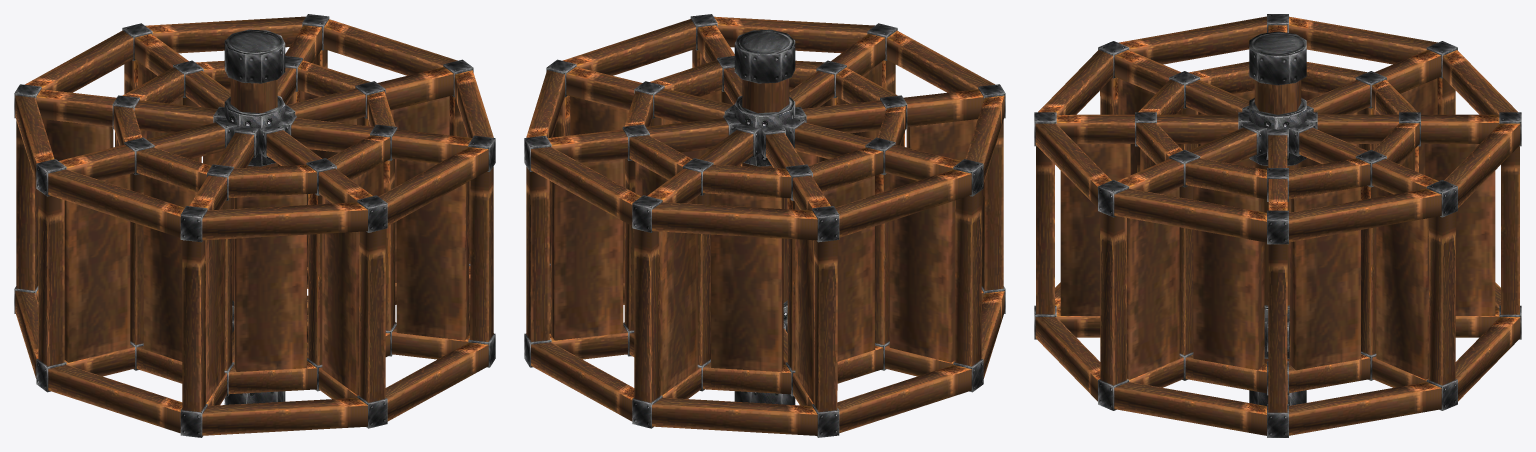
File: INST_SWORDLIGHT_WATERWHEEL.obj
3 renders of one model, left to right at view 1: azimuth 30°, elevation 25°; view 2: azimuth 150°, elevation 25°; view 3: azimuth 270°, elevation 25°, orthographic.
Parts seen in each view (by area): view 1: erwheel_Lod1_01; view 2: erwheel_Lod1_01; view 3: erwheel_Lod1_01.
Boxes of the visible parts, x1,y1,x2,y2 form: erwheel_Lod1_01: (14,14,495,437); erwheel_Lod1_01: (524,14,1005,437); erwheel_Lod1_01: (1034,14,1521,437).
Bounding box in the file's own units: 1230 × 1012 × 1230.
